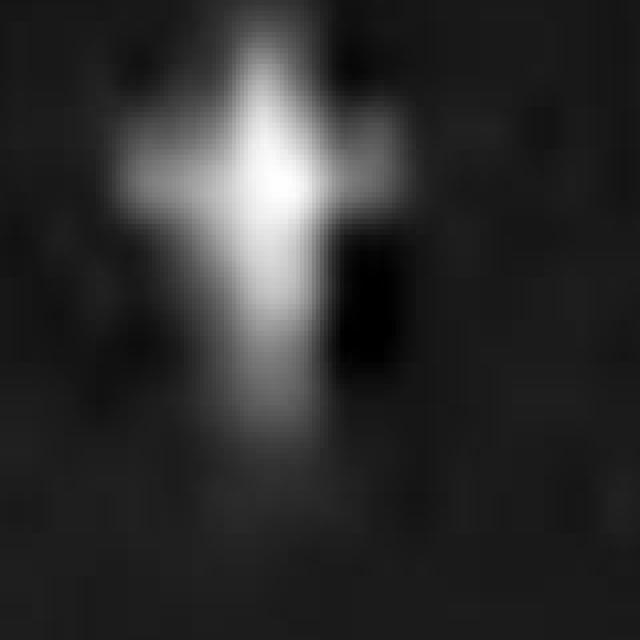person: (127, 12, 388, 433)
